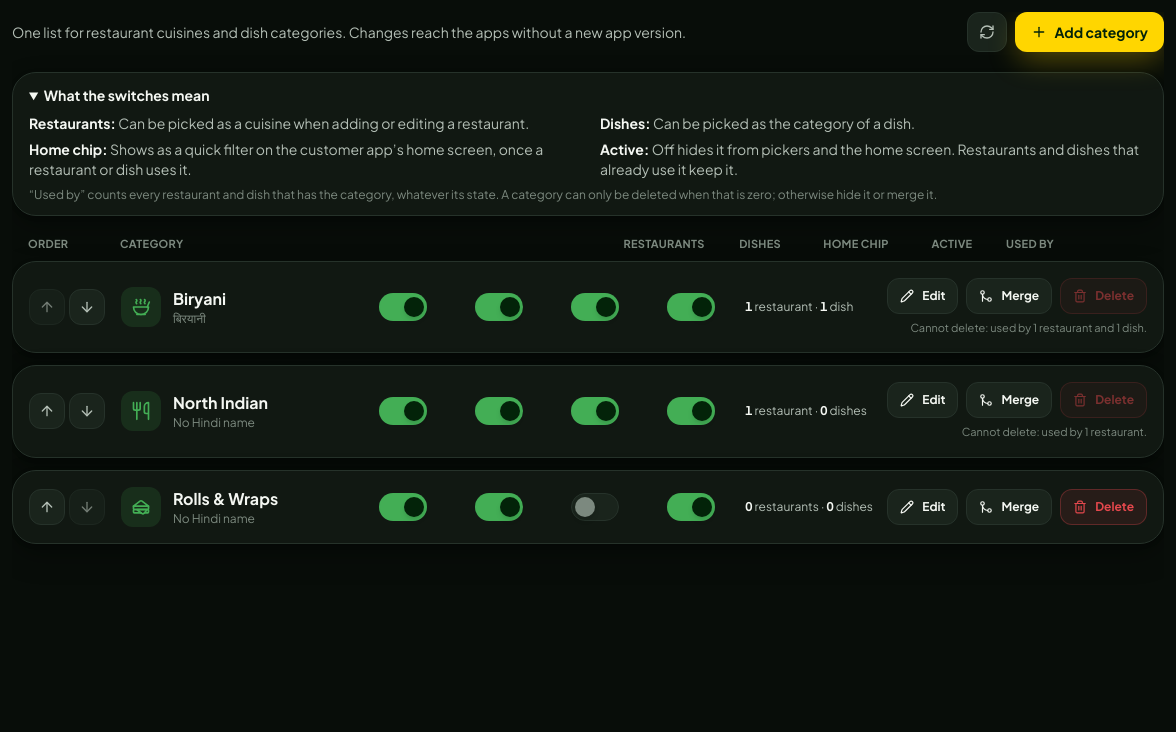
order › Save order sends every id in the new order and then clears the bar
Click the button named "Move Rolls & Wraps up".
click(47, 506)  # box [29,488,65,524]
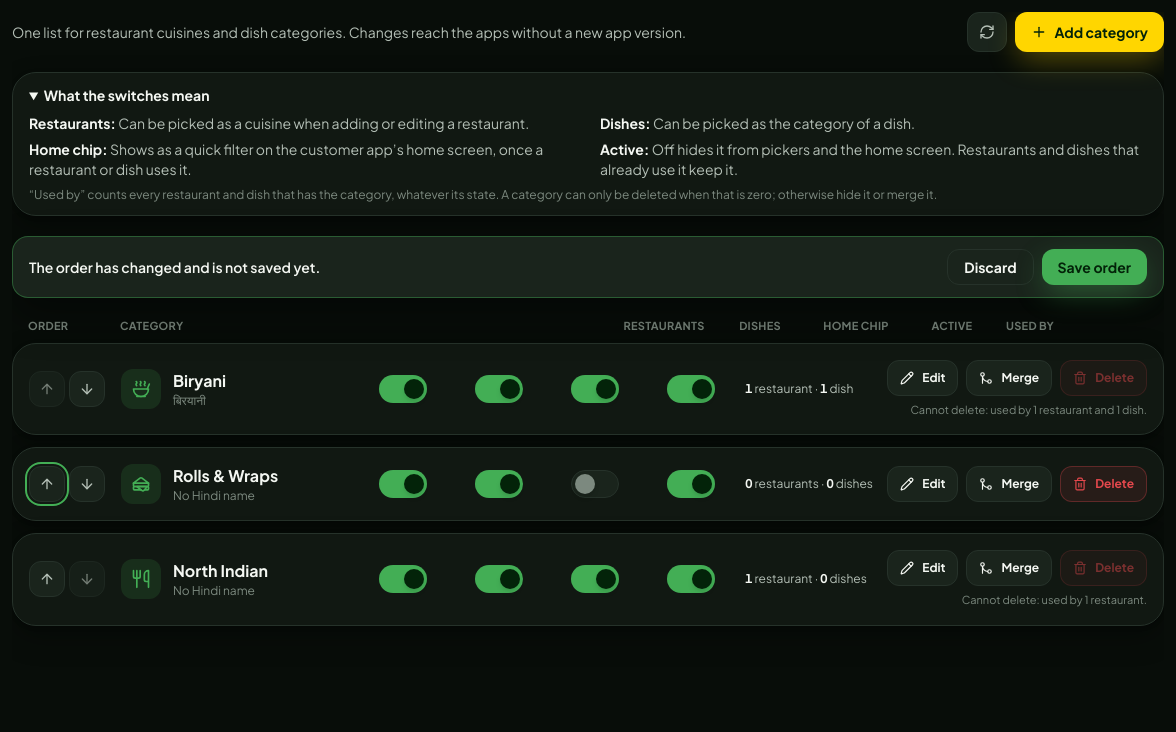
Click the button named "Move Rolls & Wraps up".
click(47, 484)  # box [29,466,65,502]
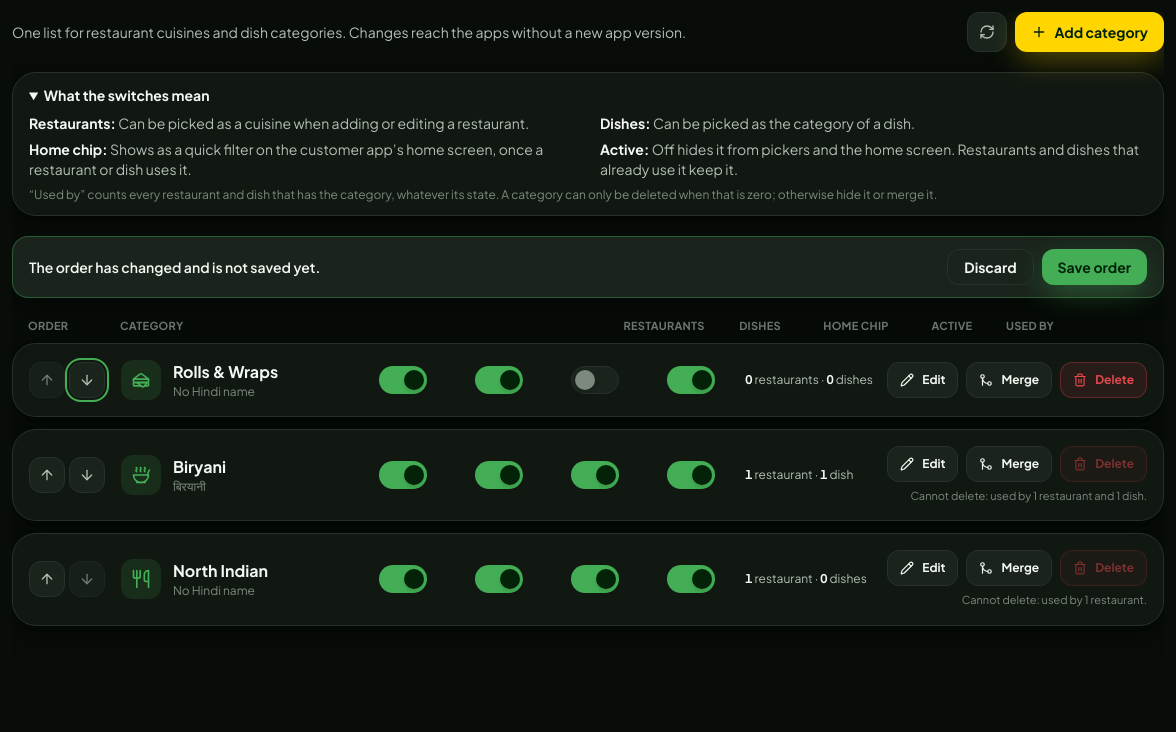
Click the button "Save order".
click(1094, 267)  # box [1042,249,1147,285]
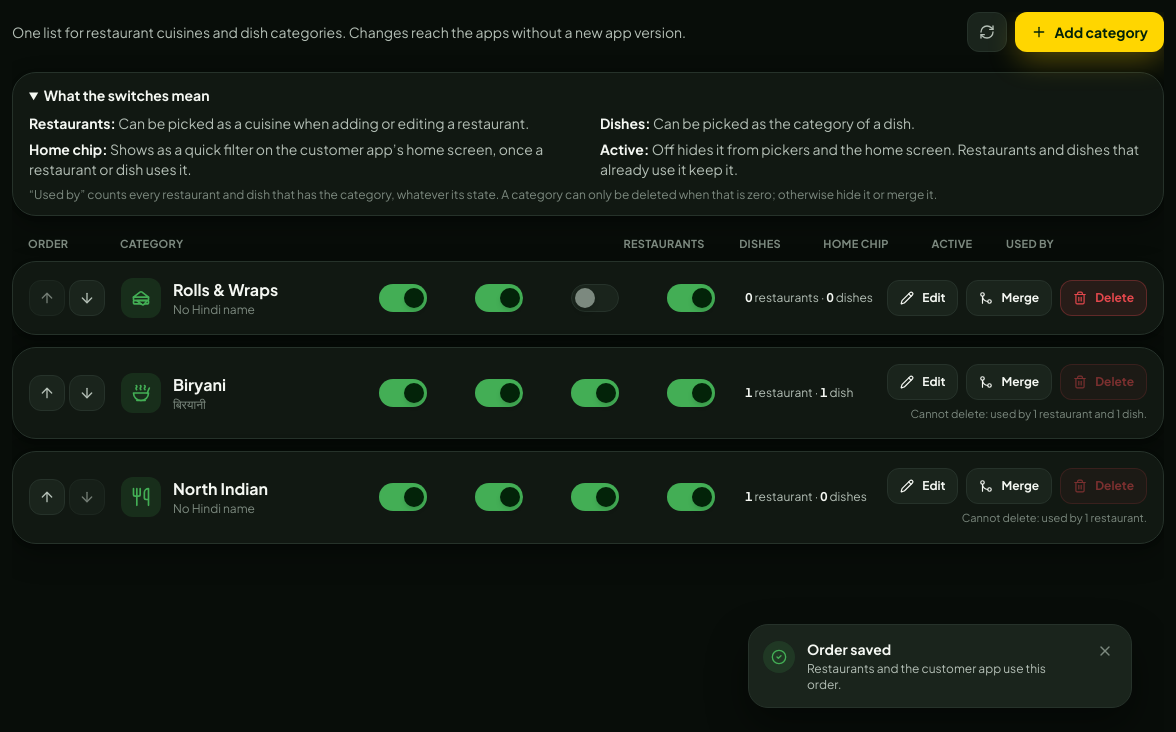
Result: the text "not saved yet" is gone
